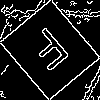F: (24, 25, 79, 80)
